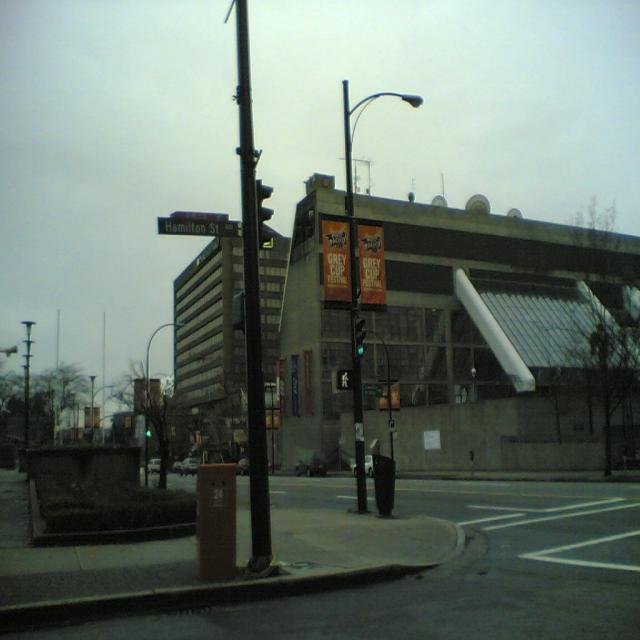traffic light: (352, 317, 368, 359)
